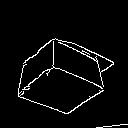cube: (4, 22, 125, 120)
